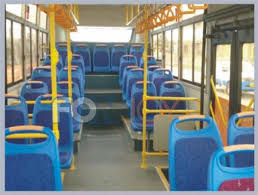seat: (37, 96, 79, 167)
